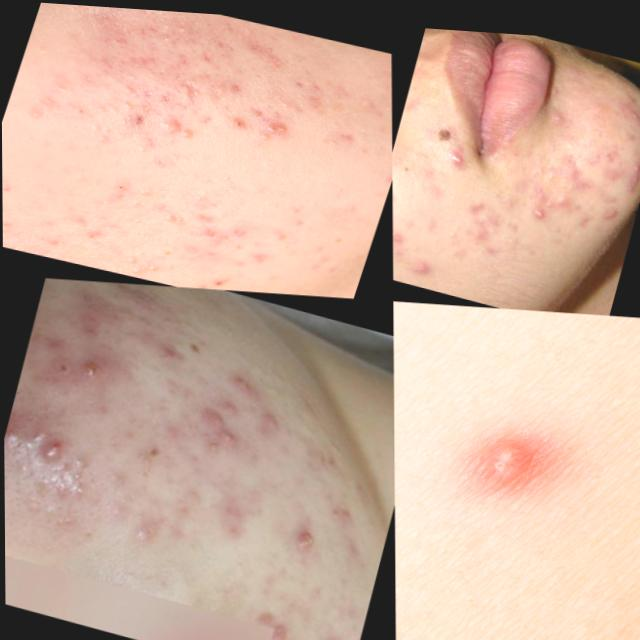8: (431, 393, 583, 513), (146, 330, 197, 375), (225, 375, 262, 403), (259, 407, 290, 437), (217, 425, 243, 446), (201, 410, 228, 426)
9: (290, 521, 333, 558), (441, 138, 480, 171), (403, 250, 441, 280), (523, 190, 560, 220), (74, 362, 110, 390), (173, 115, 205, 143), (46, 439, 65, 464), (560, 155, 582, 176), (542, 108, 570, 122)
blackheads: (34, 462, 84, 500), (172, 73, 209, 107), (259, 112, 301, 138), (594, 192, 625, 225), (14, 423, 42, 456), (623, 150, 640, 190)
dark spot: (113, 249, 172, 280)
